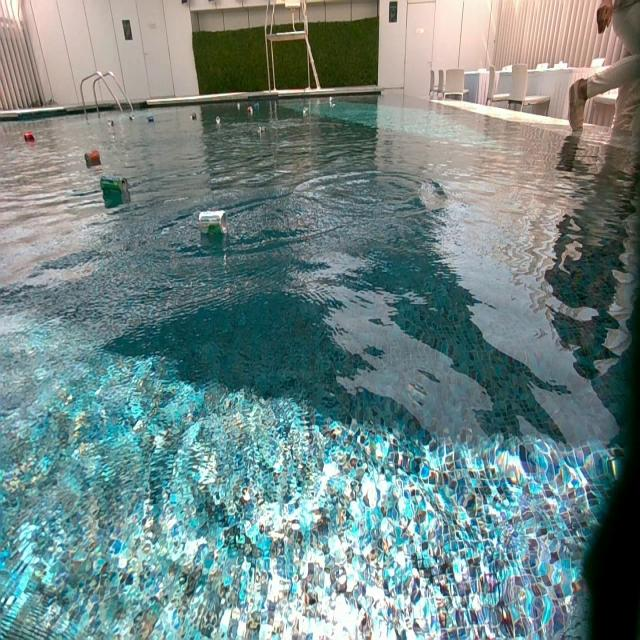Cans: (198, 208, 228, 238), (102, 177, 128, 194), (86, 149, 101, 166), (24, 132, 36, 144), (147, 117, 155, 126), (258, 127, 265, 137), (189, 112, 197, 120), (247, 106, 255, 114), (215, 118, 222, 127), (215, 115, 222, 124), (107, 118, 114, 126), (303, 107, 310, 115), (253, 102, 260, 110), (328, 99, 334, 107), (236, 102, 242, 109), (130, 115, 135, 121)
